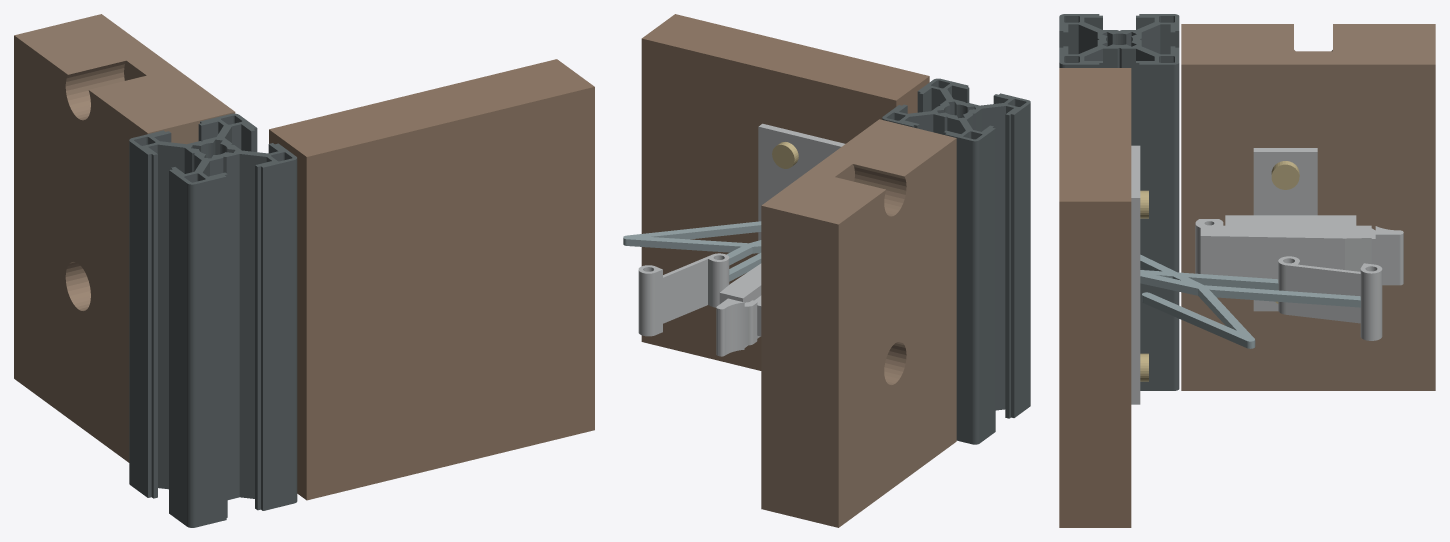
The model's file is hinge-0.glb.
3 renders of one model, left to right at view 1: azimuth 30°, elevation 25°; view 2: azimuth 150°, elevation 25°; view 3: azimuth 270°, elevation 25°, orthographic. The views are drawn at different scales.
Visible parts, largest first — view 1: Left-door-face-18, Post-4-23, Left-pegboard-24; view 2: Left-pegboard-24, Left-door-face-18, Post-4-23, Blum-wide-1-factory-body-1, Blum-wide-1-cup-envelope, Blum-wide-1-factory-body-6, Blum-wide-1-schematic-body-3, Blum-wide-1-schematic-body-4, Blum-wide-1-cup-screw-915.5; view 3: Left-pegboard-24, Left-door-face-18, Post-4-23, Blum-wide-1-factory-body-6, Blum-wide-1-175H7190-envelope, Blum-wide-1-factory-body-1, Blum-wide-1-cup-envelope, Blum-wide-1-schematic-body-2, Blum-wide-1-schematic-body-3, Blum-wide-1-schematic-body-4, Blum-wide-1-schematic-body-0, Blum-wide-1-plate-screw-909.0.
Boxes of the visible parts, box(x1,y1,x2,y2) form: Left-door-face-18: box(269, 59, 594, 500); Post-4-23: box(129, 113, 297, 527); Left-pegboard-24: box(14, 14, 235, 462); Left-pegboard-24: box(761, 119, 956, 527); Left-door-face-18: box(641, 14, 929, 370); Post-4-23: box(882, 78, 1030, 444); Blum-wide-1-factory-body-1: box(638, 253, 729, 336); Blum-wide-1-cup-envelope: box(758, 123, 844, 253); Blum-wide-1-factory-body-6: box(716, 263, 761, 356); Blum-wide-1-schematic-body-3: box(623, 235, 761, 252); Blum-wide-1-schematic-body-4: box(623, 221, 761, 245); Blum-wide-1-cup-screw-915.5: box(772, 142, 798, 168); Left-pegboard-24: box(1181, 24, 1435, 390); Left-door-face-18: box(1059, 68, 1131, 527); Post-4-23: box(1059, 14, 1179, 390); Blum-wide-1-factory-body-6: box(1195, 219, 1403, 285); Blum-wide-1-175H7190-envelope: box(1225, 148, 1356, 311); Blum-wide-1-factory-body-1: box(1278, 256, 1382, 340); Blum-wide-1-cup-envelope: box(1131, 145, 1140, 404); Blum-wide-1-schematic-body-2: box(1140, 254, 1360, 307); Blum-wide-1-schematic-body-3: box(1140, 272, 1255, 348); Blum-wide-1-schematic-body-4: box(1142, 292, 1254, 348); Blum-wide-1-schematic-body-0: box(1140, 270, 1278, 290); Blum-wide-1-plate-screw-909.0: box(1271, 161, 1299, 189).
Bounding box in the file's own units: 0.111 × 0.09 × 0.094.
